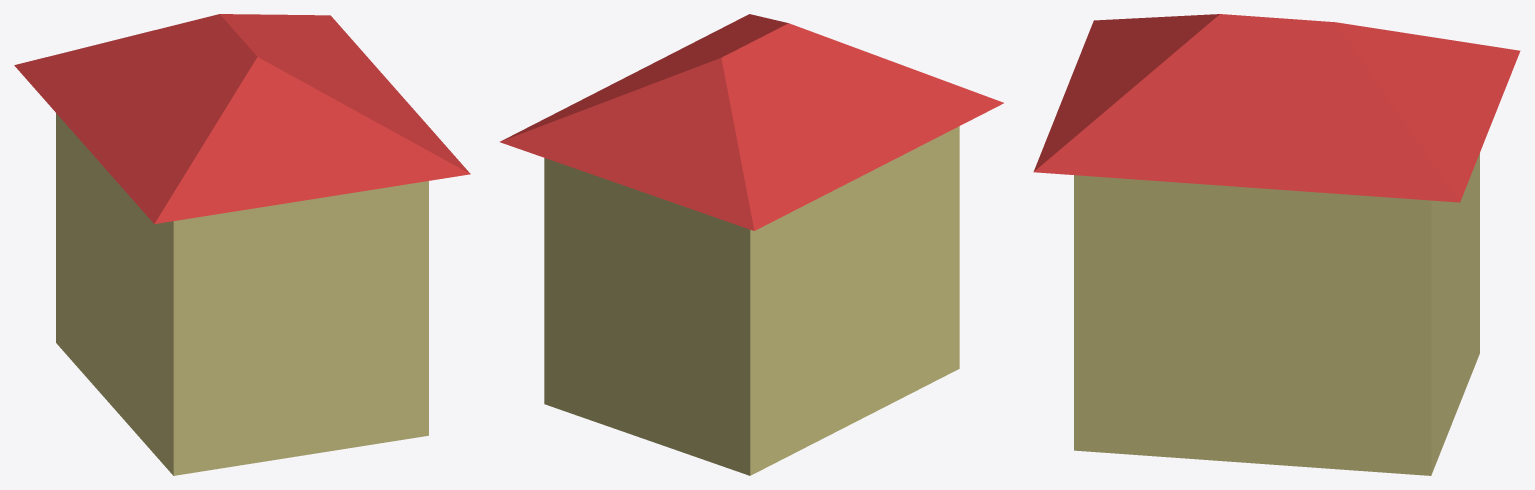
The picture shows the model from 3 angles, left to right: view 1: azimuth 30°, elevation 25°; view 2: azimuth 150°, elevation 25°; view 3: azimuth 270°, elevation 25°; orthographic projection. The views are drawn at different scales.
Visible parts, largest first — view 1: group_5, group_3, group_4; view 2: group_5, group_3, group_4; view 3: group_5, group_3, group_4.
Part boxes in pixels (bbox=[...]): group_5: bbox=[56, 113, 428, 475]; group_3: bbox=[14, 14, 470, 223]; group_4: bbox=[30, 54, 469, 223]; group_5: bbox=[544, 126, 959, 475]; group_3: bbox=[500, 14, 1003, 230]; group_4: bbox=[690, 172, 754, 230]; group_5: bbox=[1074, 153, 1479, 475]; group_3: bbox=[1033, 14, 1520, 202]; group_4: bbox=[1093, 19, 1519, 199].
Bounding box in the file's own units: 12.22 × 13.82 × 11.96.
